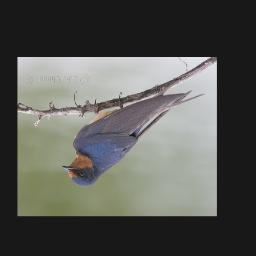Swallow: (61, 89, 205, 188)
